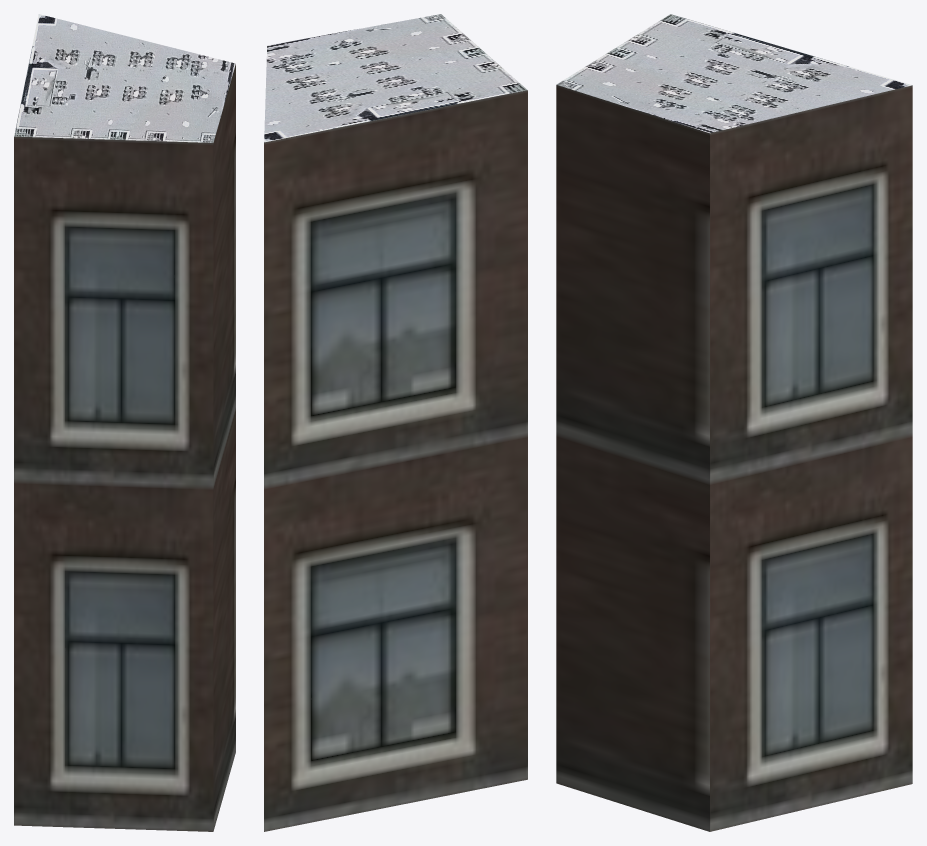
The model's file is ResTex__4457.fbx.
3 renders of one model, left to right at view 1: azimuth 30°, elevation 25°; view 2: azimuth 150°, elevation 25°; view 3: azimuth 270°, elevation 25°, orthographic.
Parts seen in each view (by area): view 1: CityEngineMaterial_16_m, CityEngineMaterial_15_m; view 2: CityEngineMaterial_16_m, CityEngineMaterial_15_m; view 3: CityEngineMaterial_16_m, CityEngineMaterial_15_m.
Part boxes in pixels (box(x1,y1,x2,y2)): CityEngineMaterial_16_m: box(14, 64, 235, 831); CityEngineMaterial_15_m: box(14, 14, 235, 142); CityEngineMaterial_16_m: box(264, 90, 527, 831); CityEngineMaterial_15_m: box(264, 14, 527, 142); CityEngineMaterial_16_m: box(556, 85, 912, 831); CityEngineMaterial_15_m: box(556, 14, 911, 133).
Size of the model in its own units: 2.2 by 6 by 2.78.
2 materials, 2 textured.
